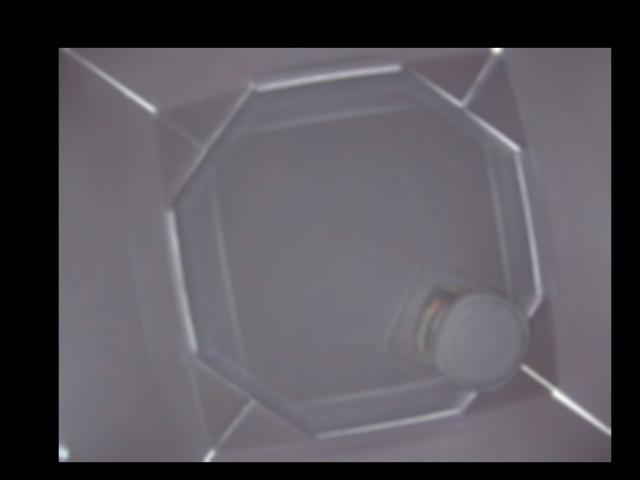Cup: (387, 258, 530, 390)
